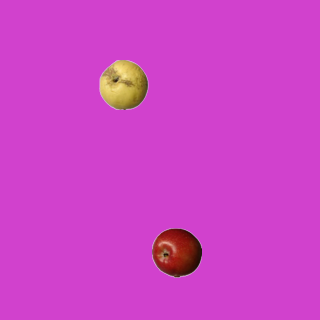Apple Braeburn: (151, 227, 201, 277)
Apple Golden 1: (98, 59, 148, 109)
